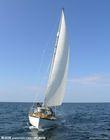fanchuan: (28, 8, 80, 130)
